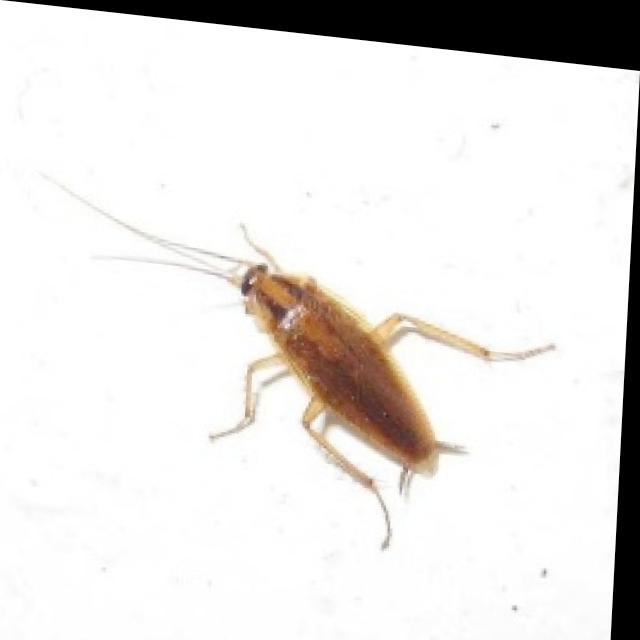cockroach: (32, 163, 561, 554)
